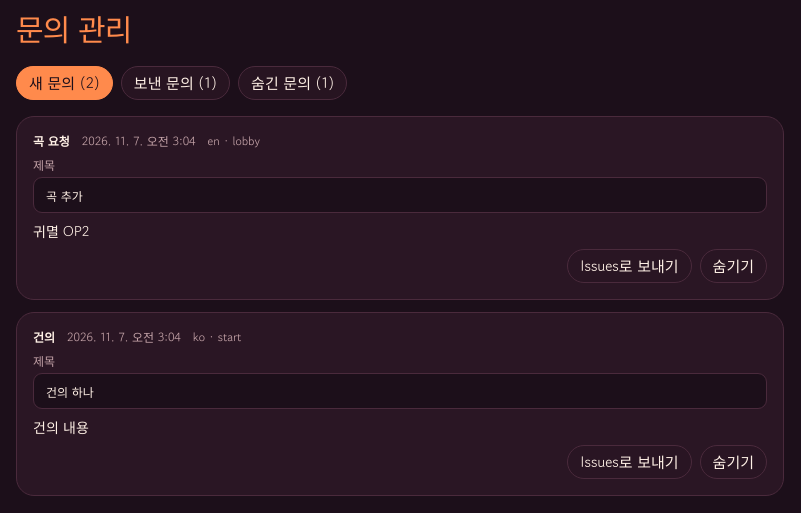
Test: the list › the hidden tab shows 다시 보이기 only
This screenshot has width=801, height=513.
Click the tab "숨긴 문의 (1)" at [293, 83], box [238,66,347,100]
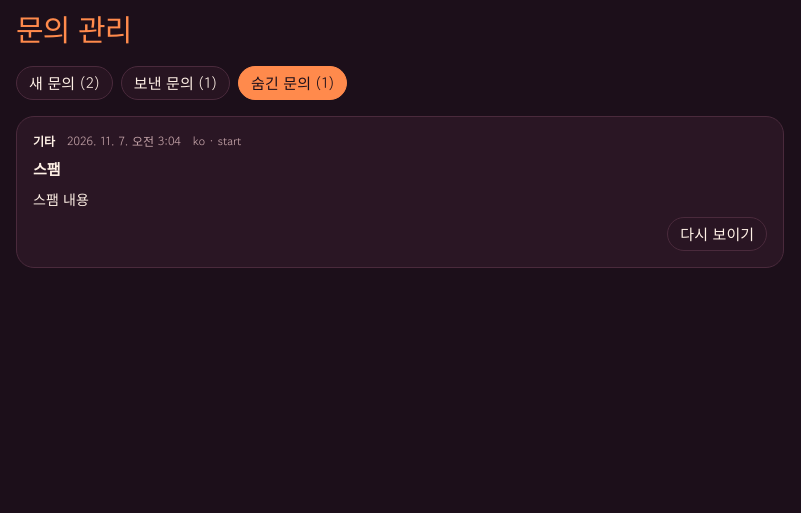
Now the text "스팸 내용" is shown, box [33,189,89,209]
Now the text "기타" is shown, box [33,133,55,149]
Now the button "다시 보이기" is shown, box [667,217,767,251]
